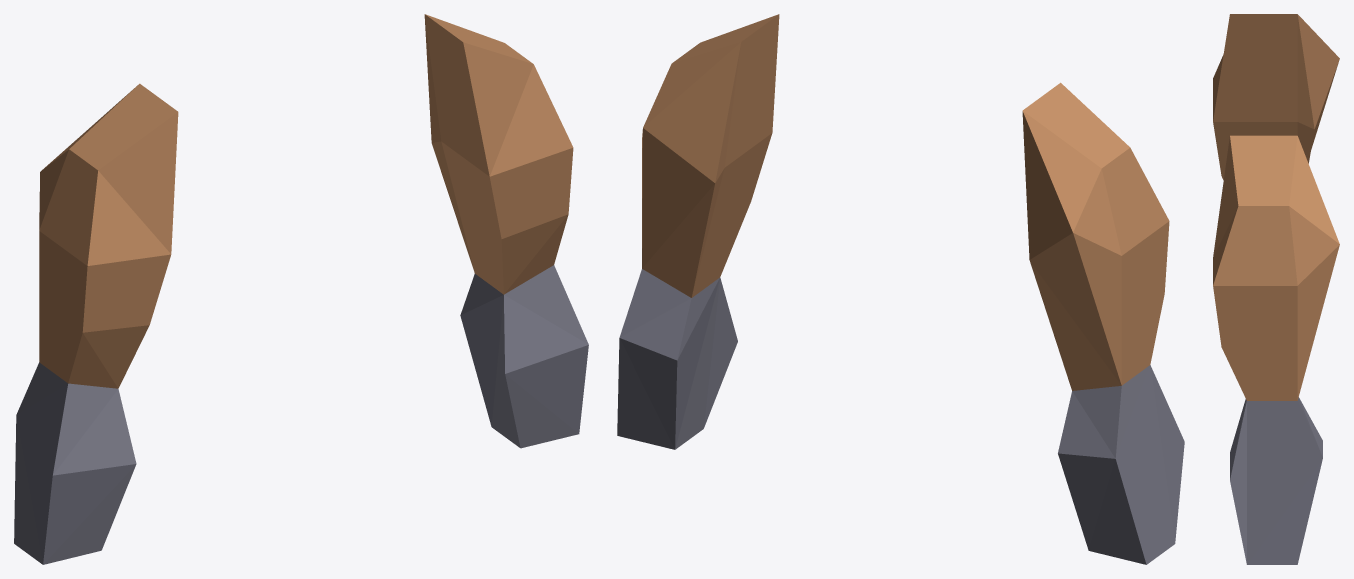
The model's file is model_173_npc.obj.
The picture shows the model from 3 angles, left to right: view 1: azimuth 30°, elevation 25°; view 2: azimuth 150°, elevation 25°; view 3: azimuth 270°, elevation 25°; orthographic projection. The views are drawn at different scales.
Parts seen in each view (by area): view 1: 173; view 2: 173; view 3: 173.
Boxes of the visible parts, x1,y1,x2,y2 form: 173: [14, 14, 588, 564]; 173: [617, 14, 1184, 564]; 173: [1213, 14, 1339, 564].
Bounding box in the file's own units: 64 × 49 × 15.
